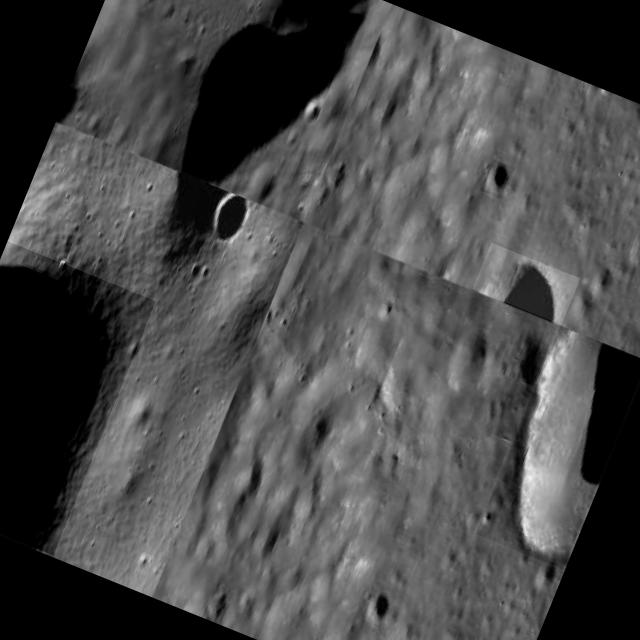crater: (55, 0, 378, 215), (0, 241, 155, 555), (476, 325, 640, 569), (472, 242, 579, 324), (202, 190, 255, 250), (360, 588, 396, 629), (479, 158, 514, 200)
